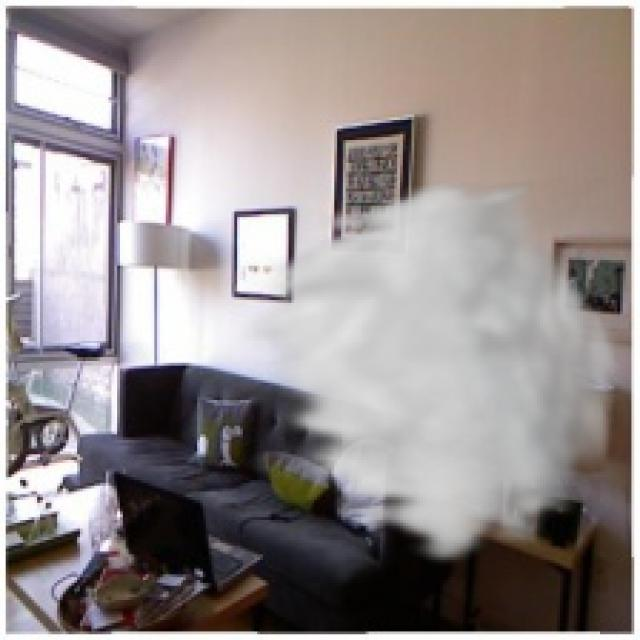smoke: (231, 177, 626, 569)
